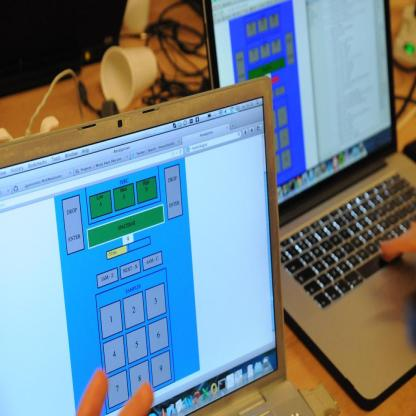board: (0, 76, 317, 416), (202, 0, 416, 414), (101, 45, 160, 111)
